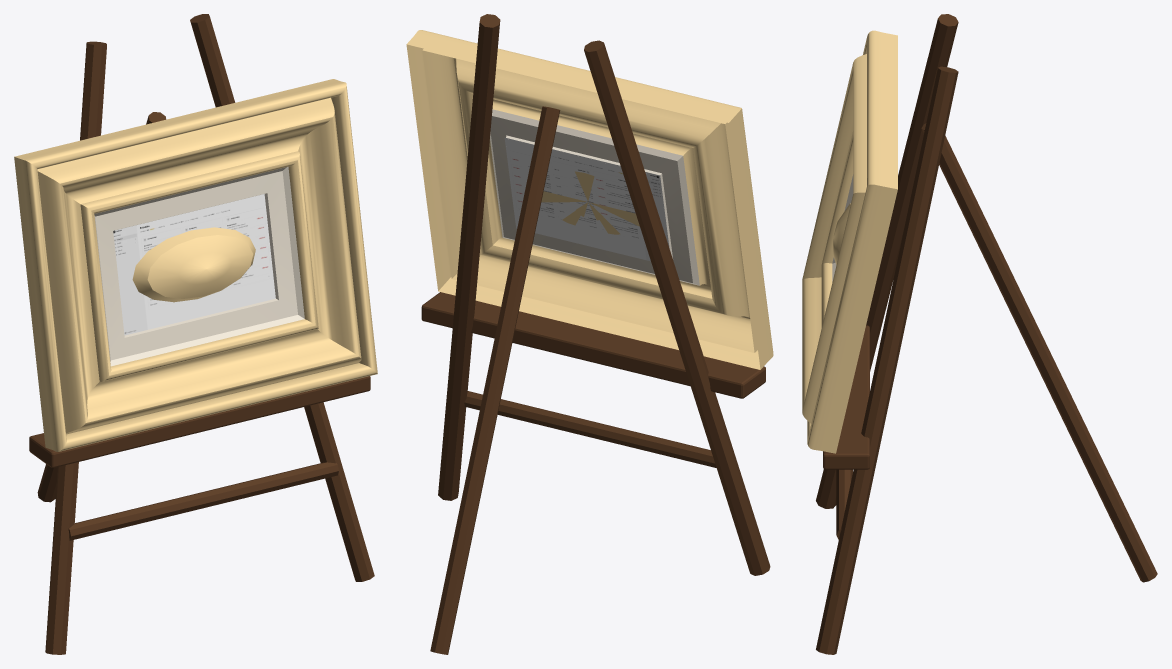
File: mini.glb
The picture shows the model from 3 angles, left to right: view 1: azimuth 30°, elevation 25°; view 2: azimuth 150°, elevation 25°; view 3: azimuth 270°, elevation 25°; orthographic projection. The views are drawn at different scales.
Parts seen in each view (by area): view 1: mini_museum; view 2: mini_museum; view 3: mini_museum.
Boxes of the visible parts, left/top/right/bottom form: mini_museum: left=14, top=14, right=377, bottom=654; mini_museum: left=406, top=14, right=773, bottom=654; mini_museum: left=802, top=14, right=1157, bottom=654.
Size of the model in its own units: 0.6353 by 1.01 by 0.6054.
Materials: 4 (1 with a texture image).
